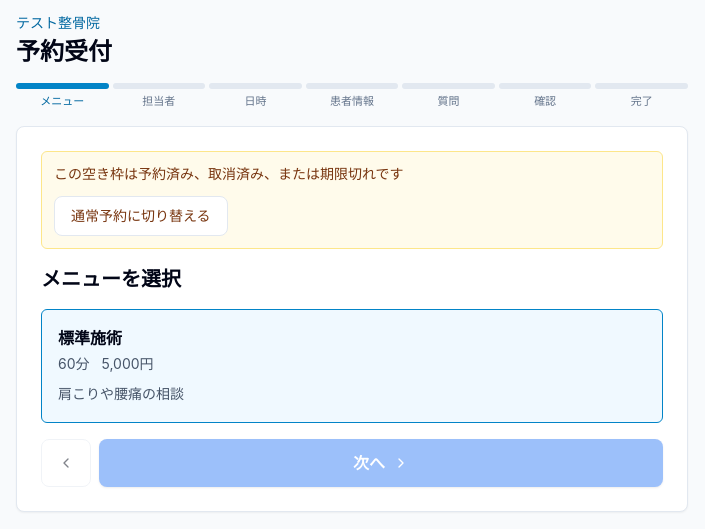
PublicBookingForm wizard › 無効な通知枠は自動降格せず明示操作で通常予約へ切り替える
Expected: the text "この空き枠は予約済み、取消済み、または期限切れです" is shown, [54,164,404,182]
Expected: the button "次へ" is disabled, [99,438,663,486]
Click the button "通常予約に切り替える" at (141, 216), box [54,196,228,236]
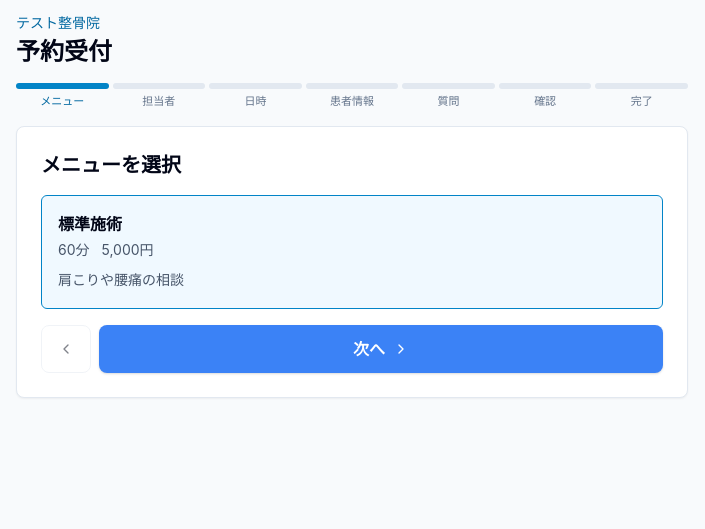
Now the button "次へ" is enabled, box [99,324,663,372]
